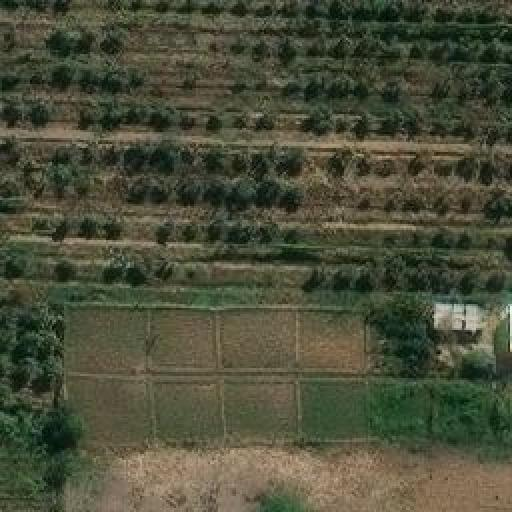manzanas: (431, 300, 510, 369)
